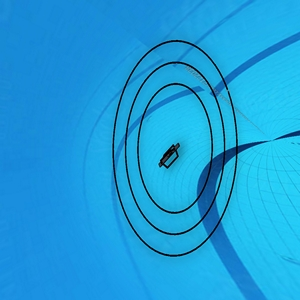circle: (109, 32, 243, 262)
submarine: (160, 145, 188, 171)
